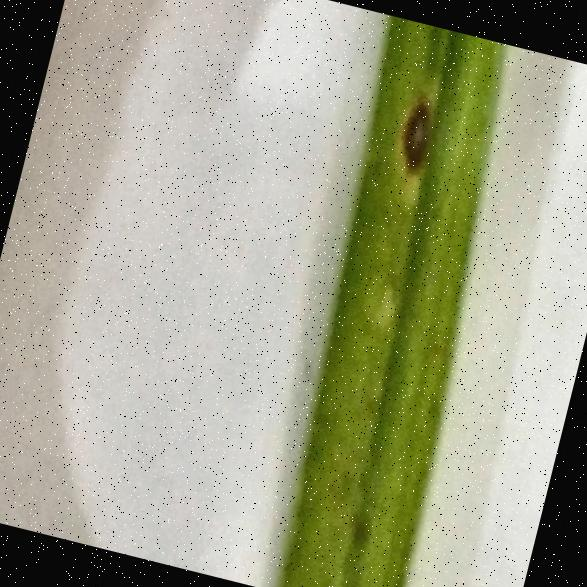Leaf_smut: (378, 52, 466, 190)
